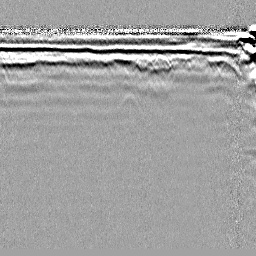cavity: (117, 90, 141, 110)
